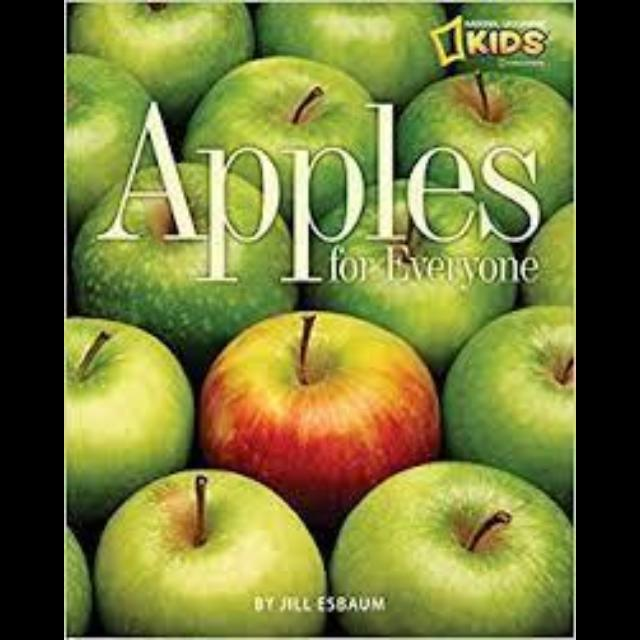apple: (199, 311, 439, 528), (72, 163, 296, 377), (329, 462, 569, 637), (306, 178, 513, 375), (92, 469, 324, 635), (181, 56, 375, 219), (395, 71, 571, 240), (441, 306, 574, 510), (67, 319, 191, 525), (72, 3, 253, 122), (255, 3, 444, 105), (64, 54, 148, 235), (225, 173, 260, 229), (311, 156, 342, 214), (429, 194, 472, 229)
